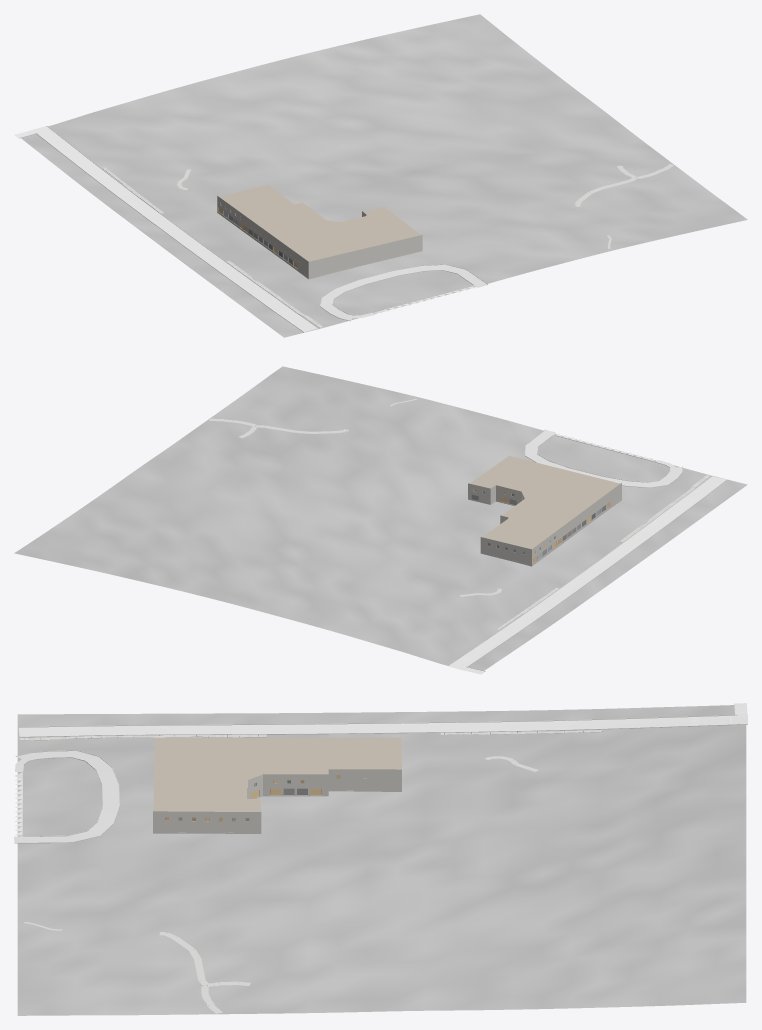
3 renders of one model, top to bottom at view 1: azimuth 30°, elevation 25°; view 2: azimuth 150°, elevation 25°; view 3: azimuth 270°, elevation 25°, orthographic. The views are drawn at different scales.
Parts seen in each view (by area): view 1: ground, roof_flat, asphalt, wall_com, concrete, curb, walk; view 2: ground, roof_flat, asphalt, wall_com, concrete, walk, curb; view 3: ground, roof_flat, asphalt, wall_com, concrete, curb, walk, mark_w.
Part boxes in pixels (x1,y1,x2,y2): ground: [21, 14, 747, 337]; roof_flat: [219, 184, 420, 261]; asphalt: [32, 126, 317, 332]; wall_com: [217, 196, 422, 279]; concrete: [14, 130, 487, 320]; curb: [19, 126, 487, 332]; walk: [102, 164, 674, 327]; ground: [14, 366, 747, 670]; roof_flat: [470, 456, 619, 549]; asphalt: [448, 476, 726, 670]; wall_com: [468, 483, 621, 566]; concrete: [463, 430, 682, 674]; walk: [209, 398, 710, 629]; curb: [448, 429, 727, 671]; ground: [17, 705, 746, 1015]; roof_flat: [153, 737, 401, 811]; asphalt: [18, 715, 747, 736]; wall_com: [153, 769, 401, 833]; concrete: [14, 703, 747, 842]; curb: [14, 703, 747, 843]; walk: [19, 730, 602, 1013]; mark_w: [26, 712, 746, 736].
Bounding box in the file's own units: 251 × 10.63 × 252.
